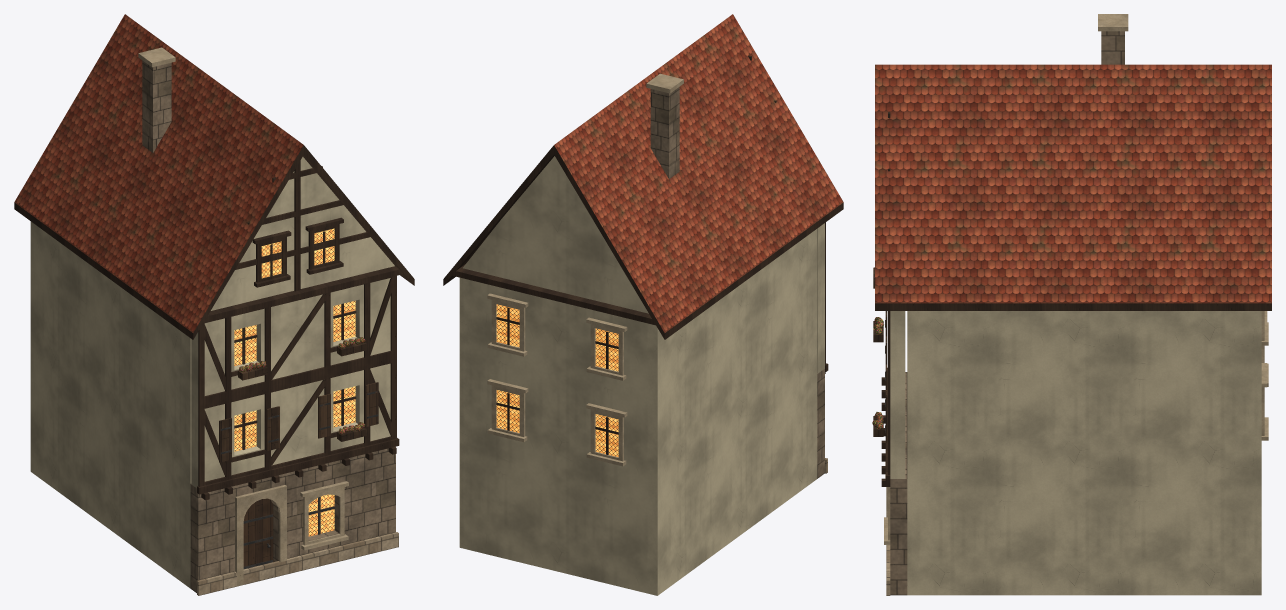
The model's file is house_timber_a.gltf.
The picture shows the model from 3 angles, left to right: view 1: azimuth 30°, elevation 25°; view 2: azimuth 150°, elevation 25°; view 3: azimuth 270°, elevation 25°; orthographic projection. The views are drawn at different scales.
Visible parts, largest first — view 1: house_timber_a_mesh, INT_door_house_timber_a, INT_window_house_timber_a_0, INT_window_house_timber_a_1, INT_window_house_timber_a_0_shutter_R, INT_window_house_timber_a_1_shutter_R, INT_window_house_timber_a_0_shutter_L, INT_window_house_timber_a_1_shutter_L; view 2: house_timber_a_mesh; view 3: house_timber_a_mesh.
Boxes of the visible parts, x1,y1,x2,y2 form: house_timber_a_mesh: (14,14,414,595); INT_door_house_timber_a: (243,498,273,569); INT_window_house_timber_a_0: (234,410,257,451); INT_window_house_timber_a_1: (333,386,356,427); INT_window_house_timber_a_0_shutter_R: (266,406,279,450); INT_window_house_timber_a_1_shutter_R: (365,382,378,426); INT_window_house_timber_a_0_shutter_L: (219,418,231,462); INT_window_house_timber_a_1_shutter_L: (318,394,330,438); house_timber_a_mesh: (443,14,843,595); house_timber_a_mesh: (872,14,1271,595).
Size of what is drawn, in the model's own units: 8.4 by 16.34 by 11.84.
12 materials, 12 textured.
